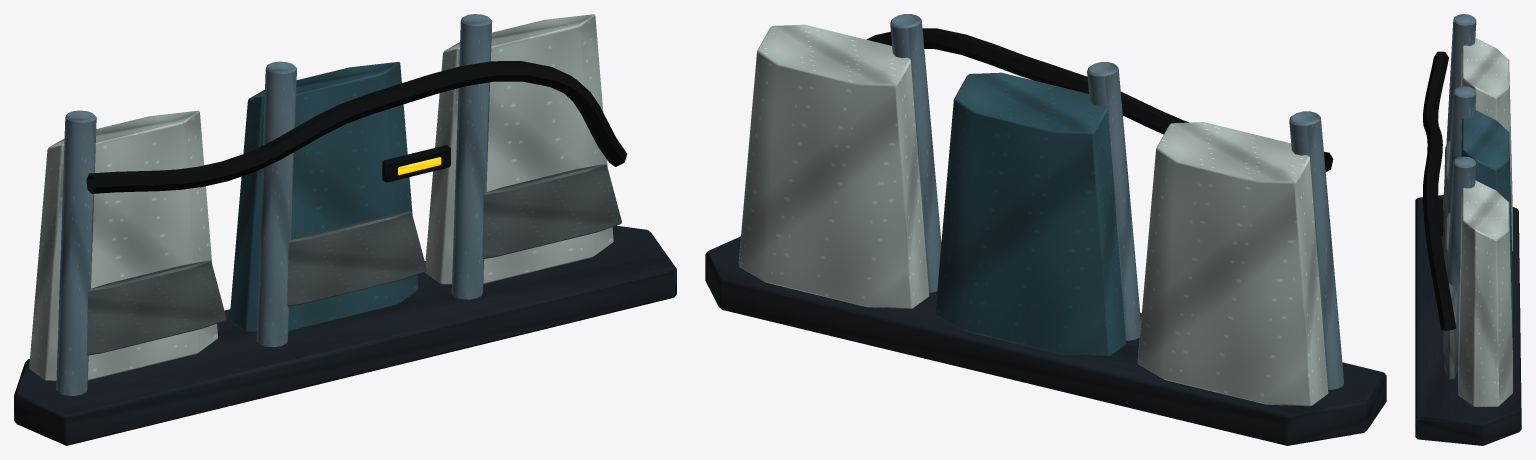
The model's file is Bulkhead_V2.fbx.
The picture shows the model from 3 angles, left to right: view 1: azimuth 30°, elevation 25°; view 2: azimuth 150°, elevation 25°; view 3: azimuth 270°, elevation 25°; orthographic projection. The views are drawn at different scales.
Parts seen in each view (by area): view 1: Bulkhead_V2; view 2: Bulkhead_V2; view 3: Bulkhead_V2.
Part boxes in pixels (x1,y1,x2,y2): Bulkhead_V2: (14,14,676,445); Bulkhead_V2: (705,14,1386,445); Bulkhead_V2: (1415,14,1521,445).
Size of the model in its own units: 6.12 by 2.69 by 1.18.
